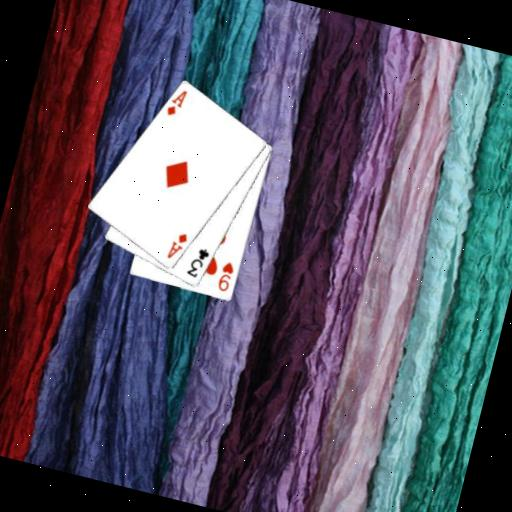3C: (183, 243, 213, 282)
9H: (214, 257, 238, 295)
AD: (163, 228, 190, 264), (163, 84, 190, 120)
